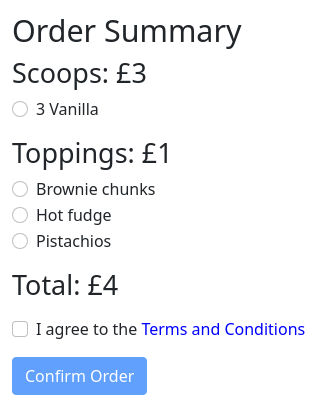
Test: SummaryForm › Checkbox enables button on 1st click and disables on 2nd click
Step 1. Click the checkbox labelled "I agree to the Terms and Conditions" → (20, 329), box [12,321,28,337]
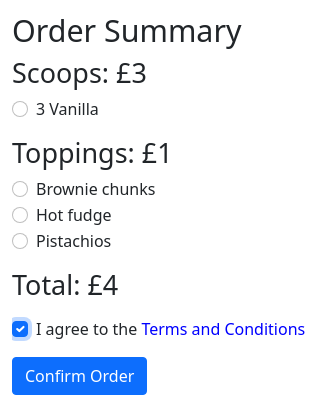
Expected: the checkbox labelled "I agree to the Terms and Conditions" is checked
Expected: the button "Confirm Order" is enabled, [12,357,147,395]
Step 2. Click the checkbox labelled "I agree to the Terms and Conditions" → (20, 329), box [12,321,28,337]
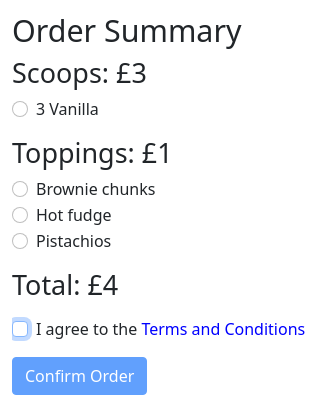
Expected: the checkbox labelled "I agree to the Terms and Conditions" is not checked, [12,321,28,337]
Expected: the button "Confirm Order" is disabled, [12,357,147,395]
